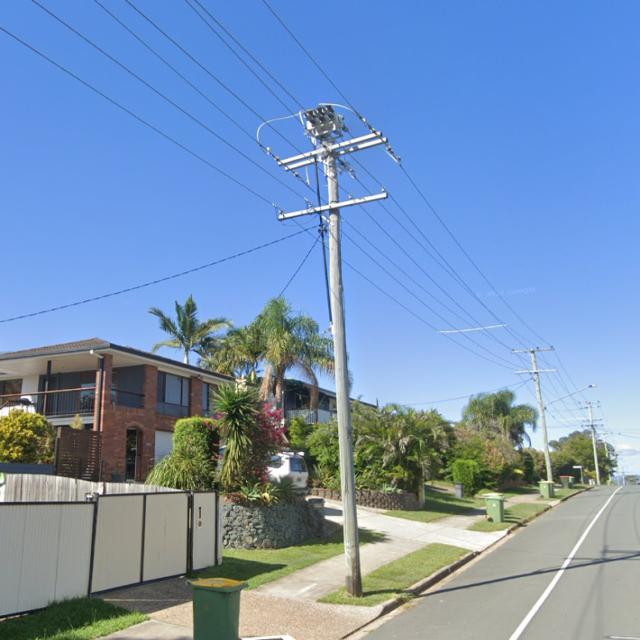HV-switch: (304, 104, 349, 142)
HV-transmission: (266, 116, 402, 186), (510, 346, 555, 353), (578, 400, 600, 404)
crossarm: (277, 130, 383, 166), (284, 137, 388, 171), (276, 191, 388, 222), (515, 368, 558, 374), (510, 348, 554, 353), (582, 418, 602, 422), (581, 424, 604, 427), (580, 406, 602, 409), (578, 402, 600, 404)
streetlight: (543, 384, 597, 406)
timber-pole: (324, 140, 362, 598), (531, 347, 553, 482), (588, 403, 600, 486), (603, 434, 611, 482), (616, 468, 620, 486), (622, 466, 625, 486)
